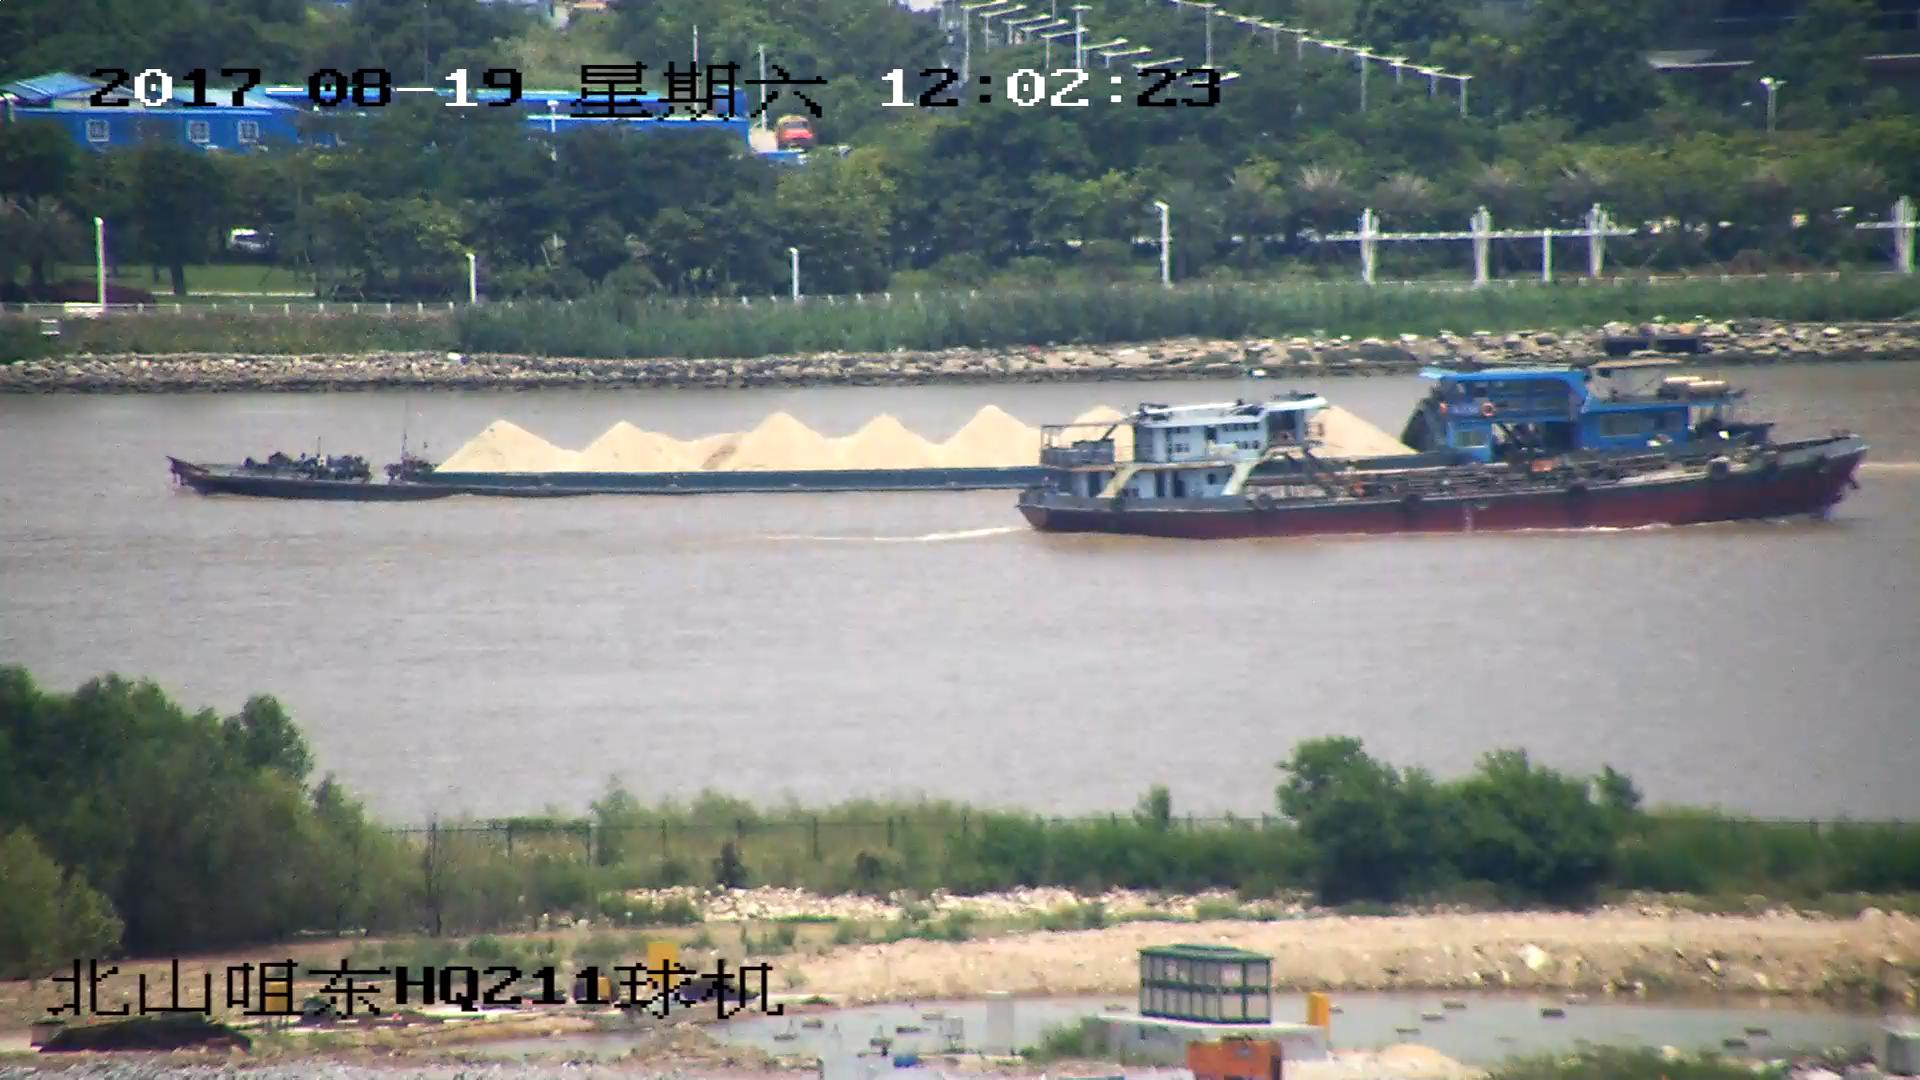bulk cargo carrier: (1017, 408, 1871, 538)
ore carrier: (166, 369, 1744, 501)
